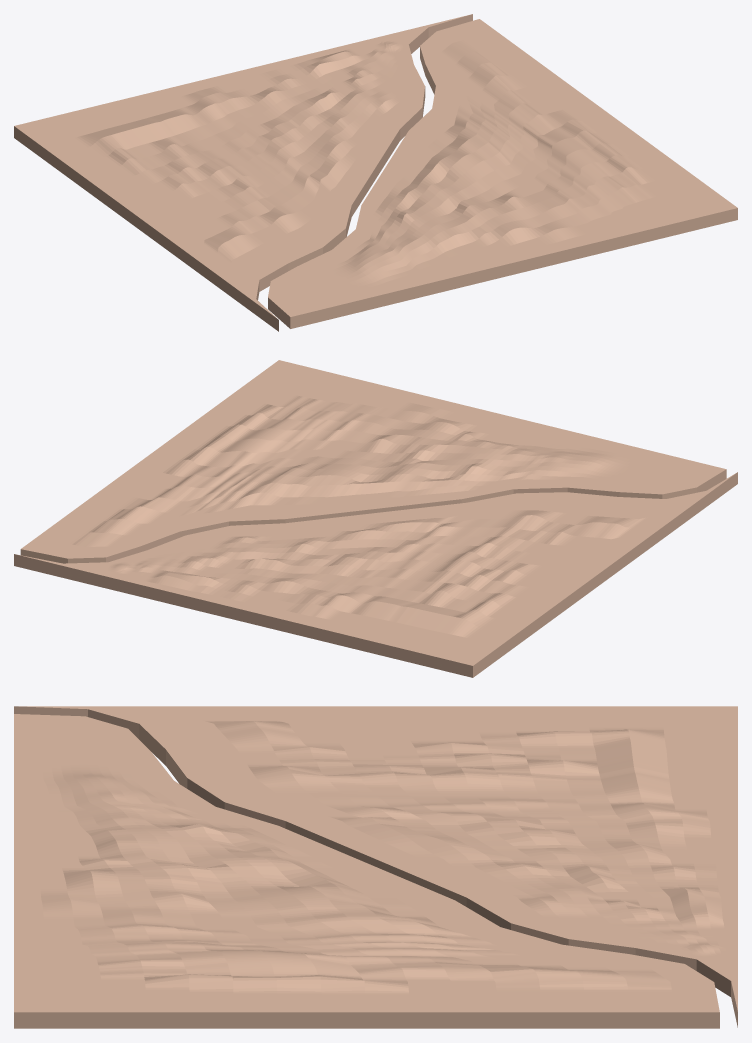
File: structure_floordiagonal.fbx
3 views of the same model, one above another, from view 1: azimuth 30°, elevation 25°; view 2: azimuth 150°, elevation 25°; view 3: azimuth 270°, elevation 25° (orthographic). The views are drawn at different scales.
Visible parts, largest first — view 1: floordiagonal_floor1_LOD0, floordiagonal_floor2_LOD0; view 2: floordiagonal_floor2_LOD0, floordiagonal_floor1_LOD0; view 3: floordiagonal_floor1_LOD0, floordiagonal_floor2_LOD0.
Boxes of the visible parts, x1,y1,x2,y2 form: floordiagonal_floor1_LOD0: [268, 19, 737, 328]; floordiagonal_floor2_LOD0: [14, 14, 472, 331]; floordiagonal_floor2_LOD0: [14, 472, 737, 677]; floordiagonal_floor1_LOD0: [20, 360, 726, 563]; floordiagonal_floor1_LOD0: [14, 714, 719, 1028]; floordiagonal_floor2_LOD0: [14, 706, 737, 1027].
Size of what is drawn, in the model's own units: 400 by 22.79 by 400.
